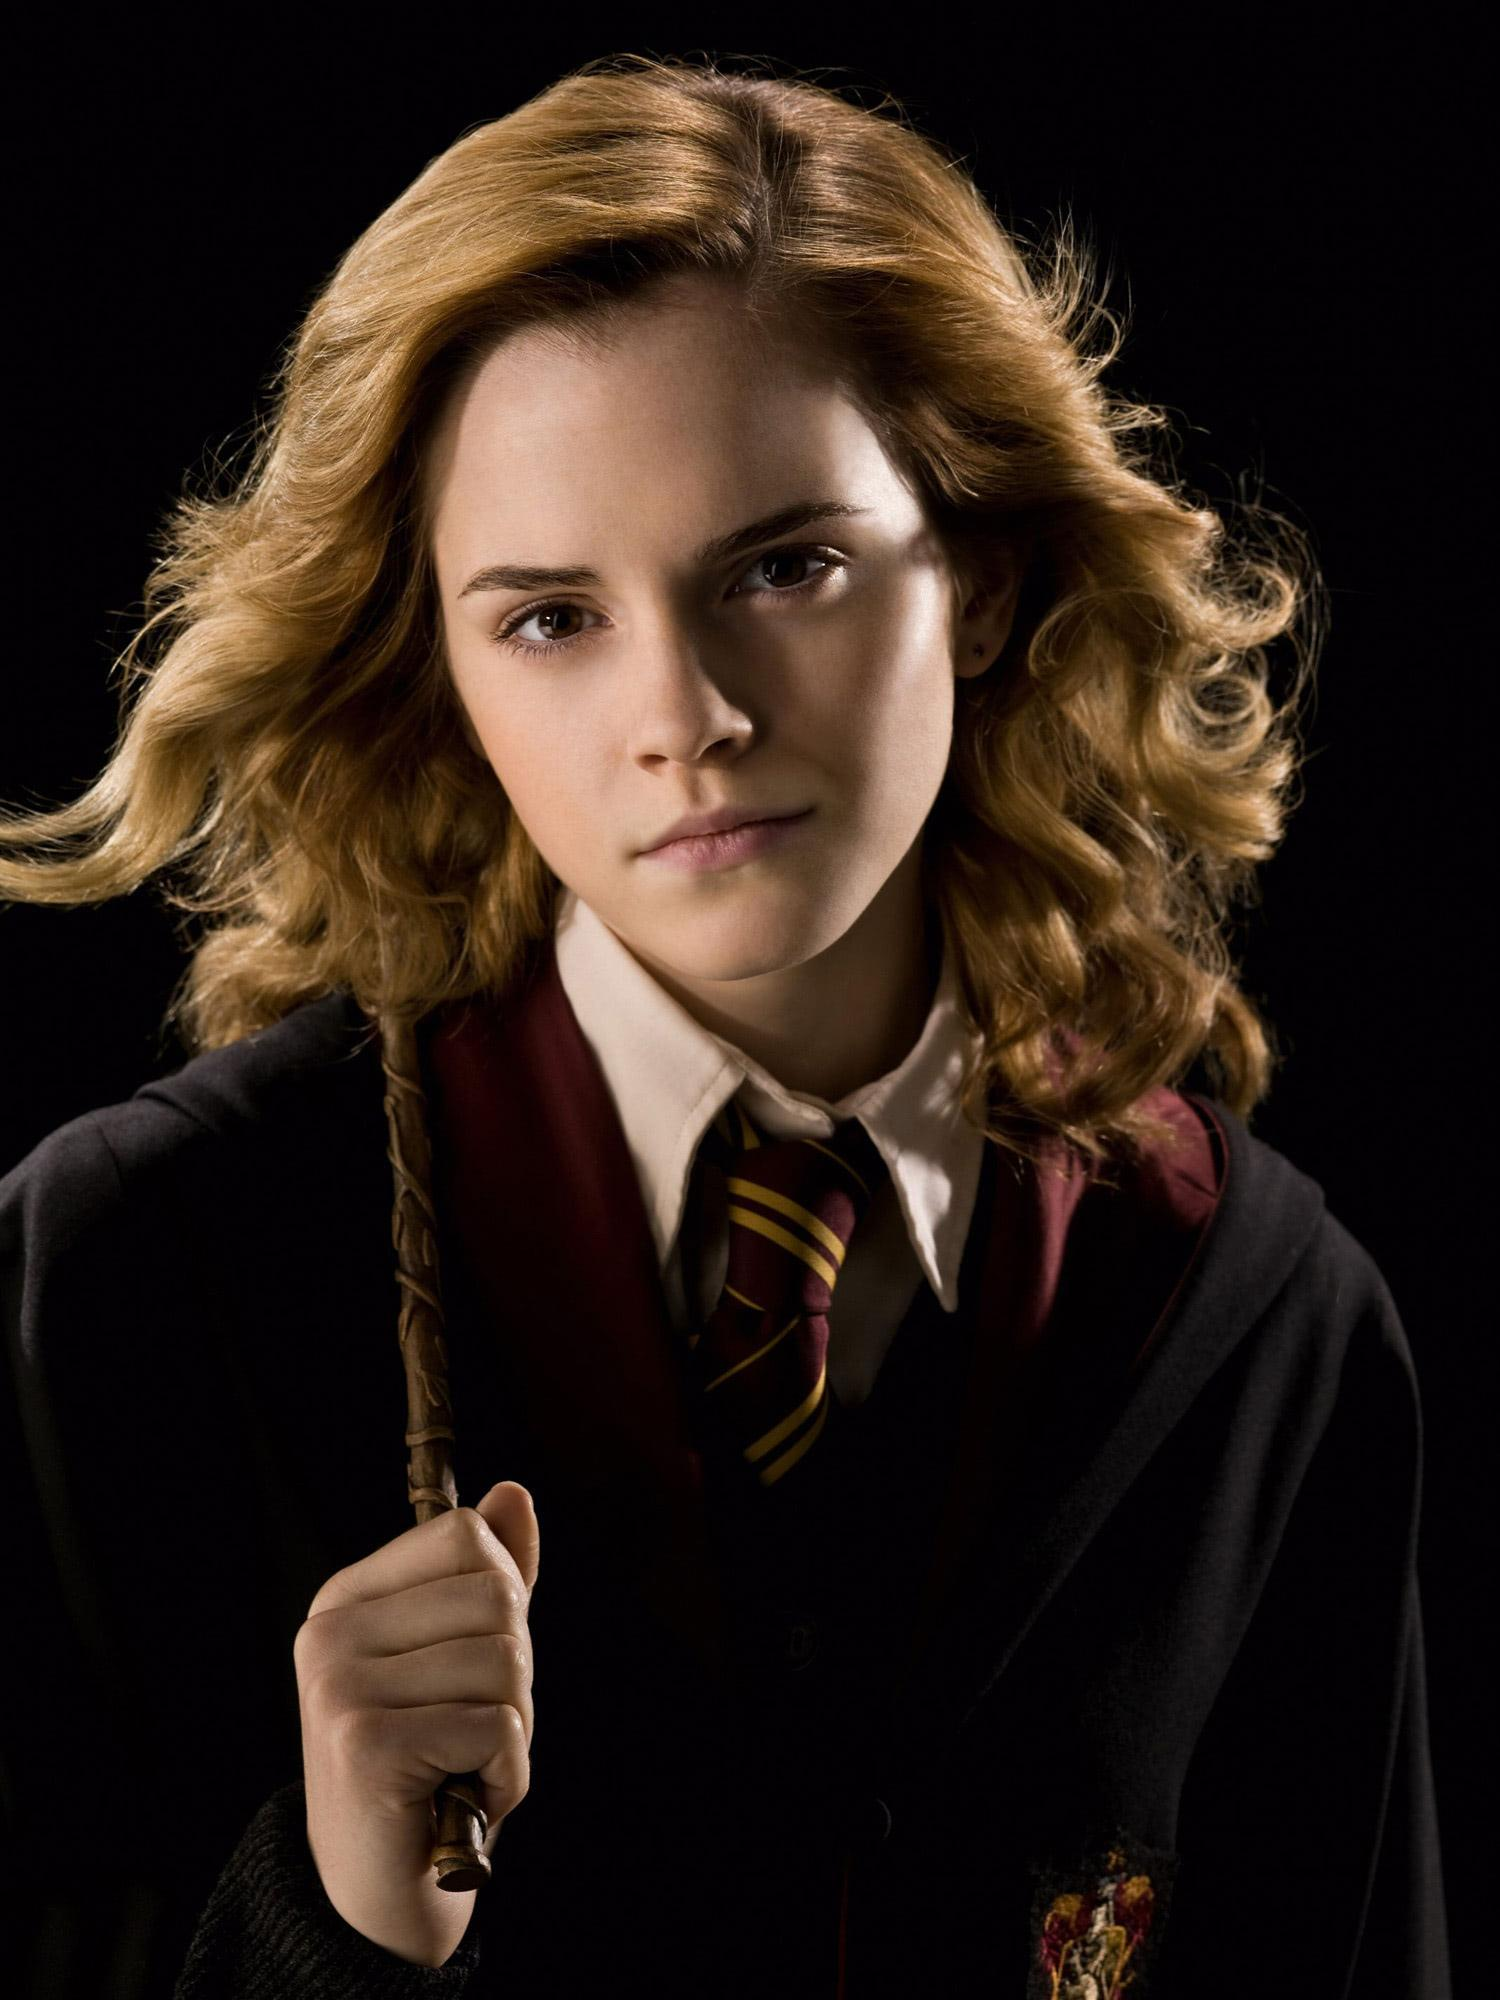fist: (291, 1463, 544, 1954)
